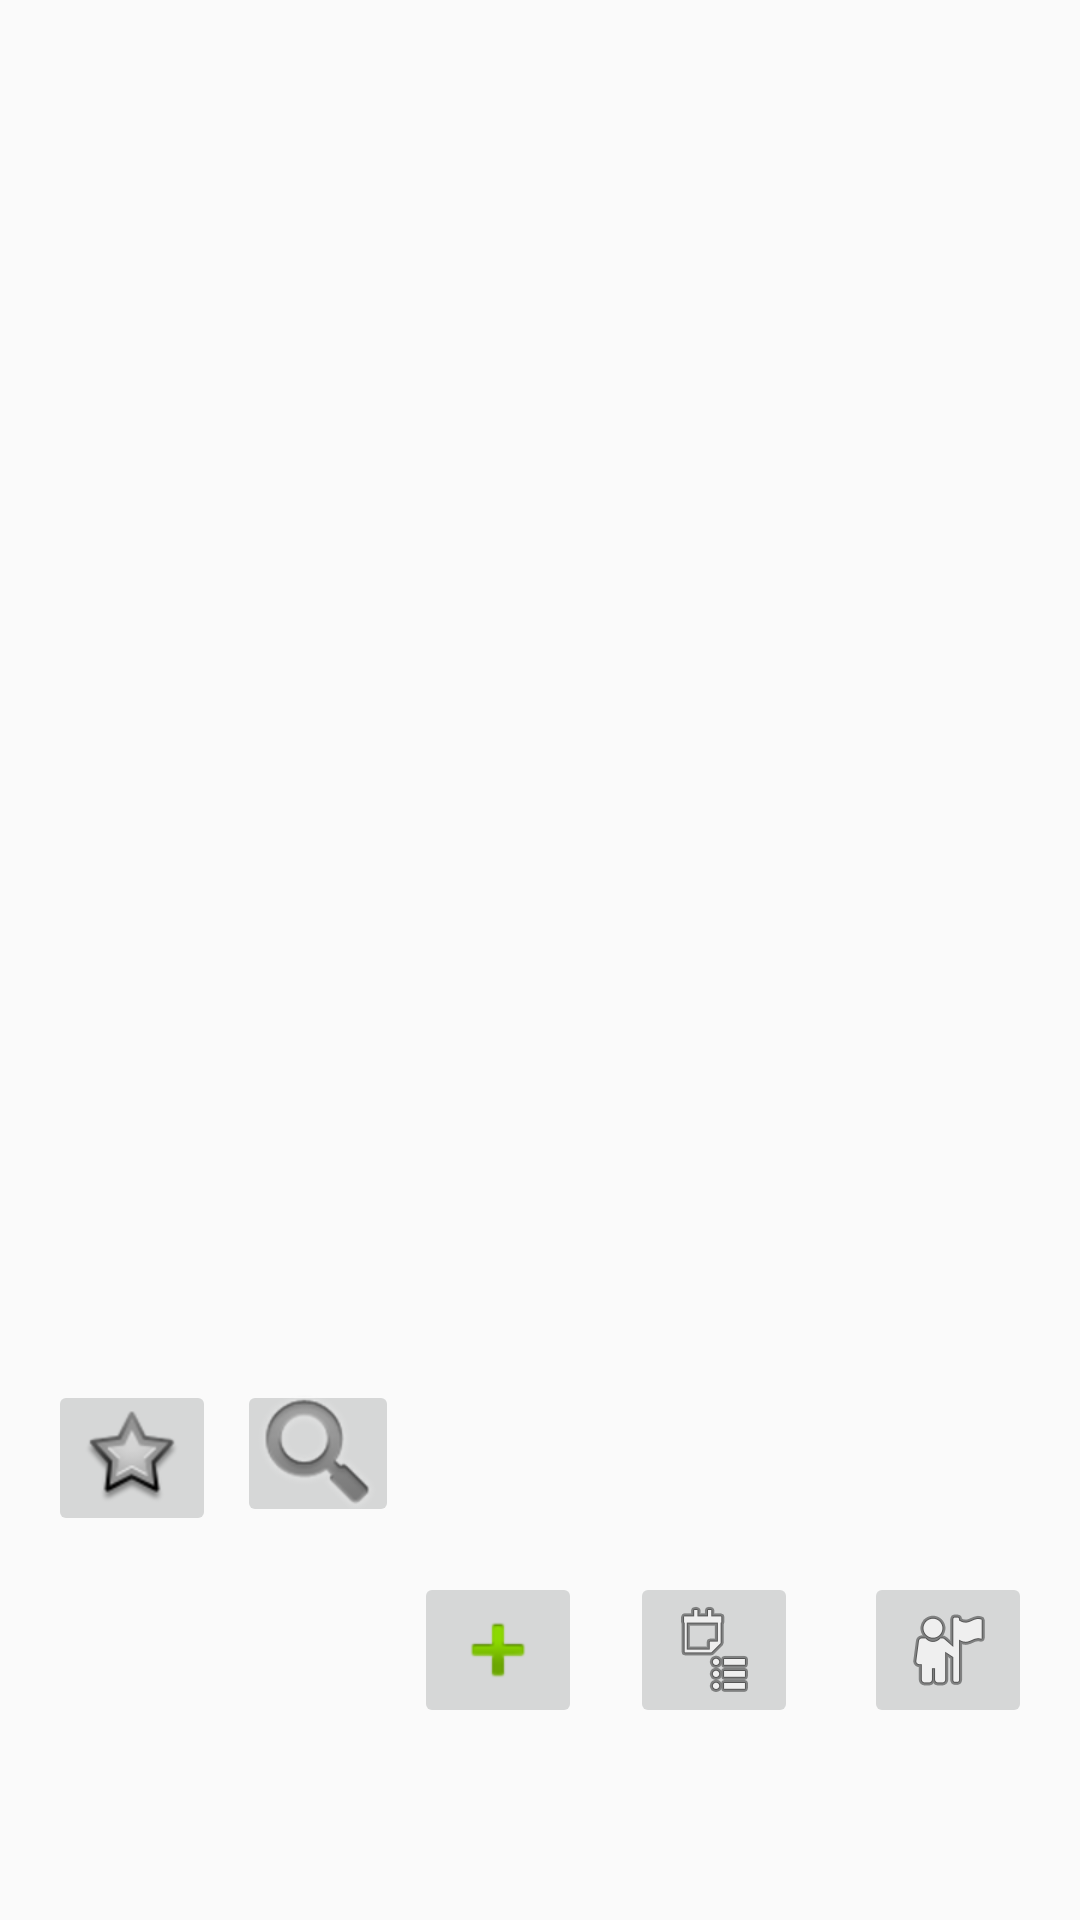

Icon bounding boxes for this 1080*1920 phone screenshot, format (x1, y1, x2, y2):
add: (426, 1590, 570, 1710)
agenda: (642, 1590, 786, 1710)
myplaces: (876, 1590, 1020, 1710)
star off: (60, 1398, 204, 1518)
